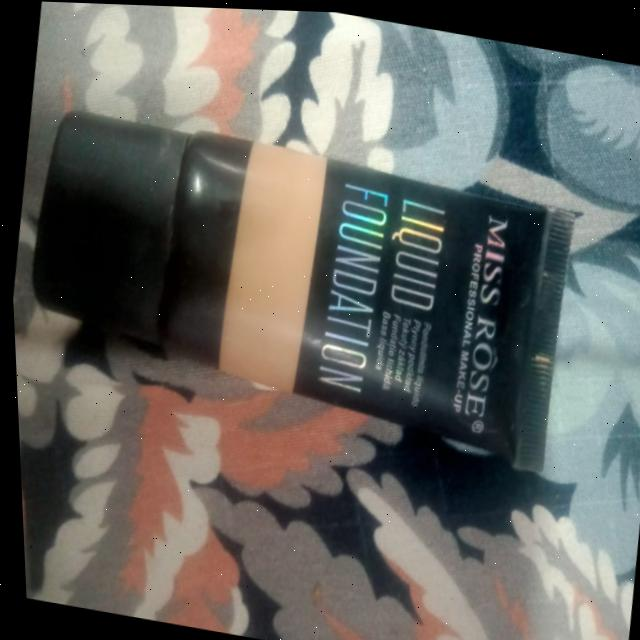foundation: (2, 68, 616, 489)
